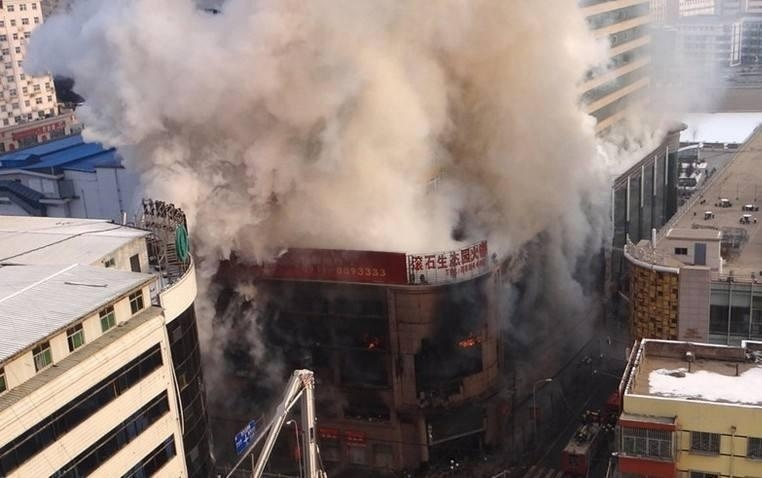fire: (456, 331, 479, 348)
